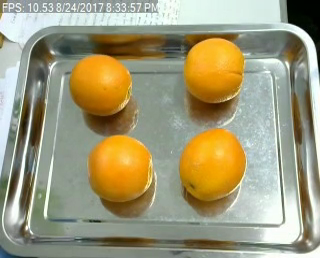Orange: (177, 129, 246, 201), (87, 135, 150, 202), (183, 38, 244, 103), (70, 52, 131, 115)
